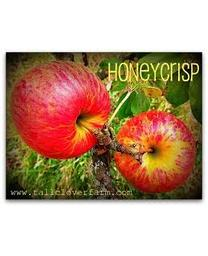apple: (12, 60, 109, 158), (113, 110, 196, 193)
